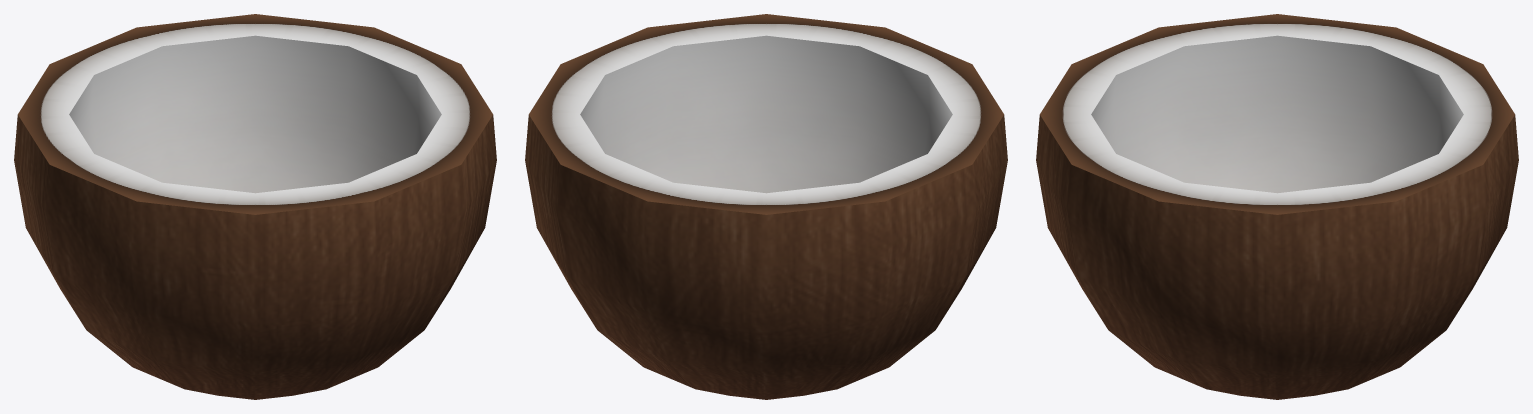
Rendered from Coconut_Half_Bottom.fbx.
3 renders of one model, left to right at view 1: azimuth 30°, elevation 25°; view 2: azimuth 150°, elevation 25°; view 3: azimuth 270°, elevation 25°, orthographic.
Parts seen in each view (by area): view 1: Coconut_Half_Bottom; view 2: Coconut_Half_Bottom; view 3: Coconut_Half_Bottom.
Part boxes in pixels (x1=…): Coconut_Half_Bottom: x1=14, y1=14, x2=496, y2=399; Coconut_Half_Bottom: x1=525, y1=14, x2=1007, y2=399; Coconut_Half_Bottom: x1=1036, y1=14, x2=1518, y2=399.
Bounding box in the file's own units: 1.88 × 1.13 × 1.88.
